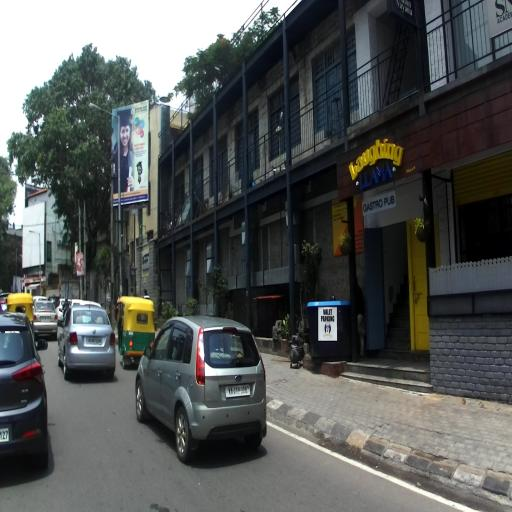street_light_0: (88, 101, 120, 121), (28, 229, 41, 237)
